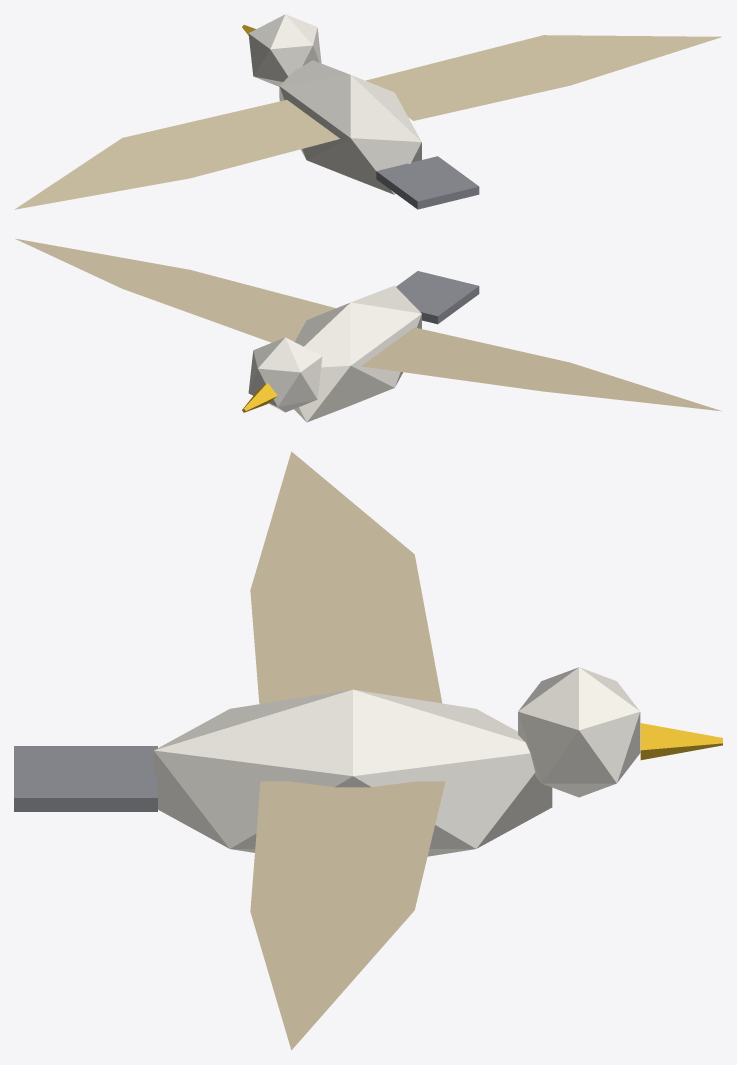
The model's file is ani_seagull.glb.
The picture shows the model from 3 angles, top to bottom: view 1: azimuth 30°, elevation 25°; view 2: azimuth 150°, elevation 25°; view 3: azimuth 270°, elevation 25°; orthographic projection. The views are drawn at different scales.
Parts seen in each view (by area): view 1: ani_seagull, ani_seagull_wing_r, ani_seagull_wing_l; view 2: ani_seagull, ani_seagull_wing_l, ani_seagull_wing_r; view 3: ani_seagull, ani_seagull_wing_r, ani_seagull_wing_l.
Boxes of the visible parts, x1=… form: ani_seagull: x1=242, y1=14, x2=479, y2=209; ani_seagull_wing_r: x1=366, y1=35, x2=721, y2=120; ani_seagull_wing_l: x1=15, y1=100, x2=339, y2=209; ani_seagull: x1=242, y1=271, x2=479, y2=422; ani_seagull_wing_l: x1=361, y1=327, x2=721, y2=411; ani_seagull_wing_r: x1=15, y1=238, x2=335, y2=342; ani_seagull: x1=14, y1=667, x2=722, y2=856; ani_seagull_wing_r: x1=250, y1=781, x2=445, y2=1050; ani_seagull_wing_l: x1=250, y1=451, x2=442, y2=703.
Size of the model in its own units: 1.38 by 0.216 by 0.69.
